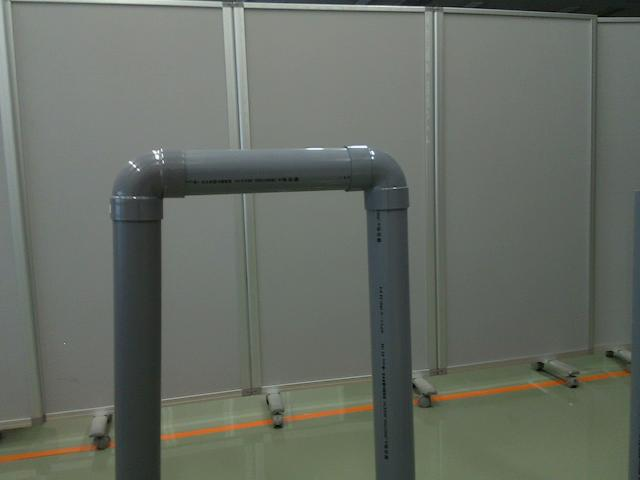bent: (111, 149, 185, 222), (343, 145, 412, 212)
